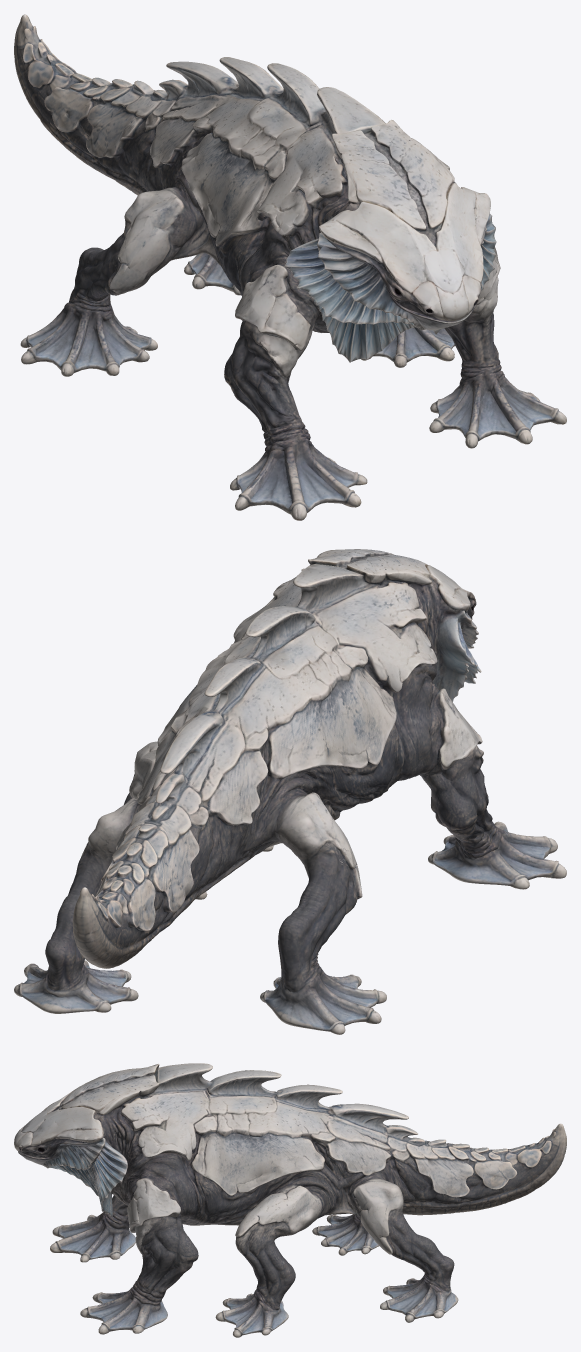
3 views of the same model, one above another, from view 1: azimuth 30°, elevation 25°; view 2: azimuth 150°, elevation 25°; view 3: azimuth 270°, elevation 25° (orthographic). The views are drawn at different scales.
Size of the model in its own units: 0.6137 by 0.5002 by 1.17.
Materials: 1 (1 with a texture image).
